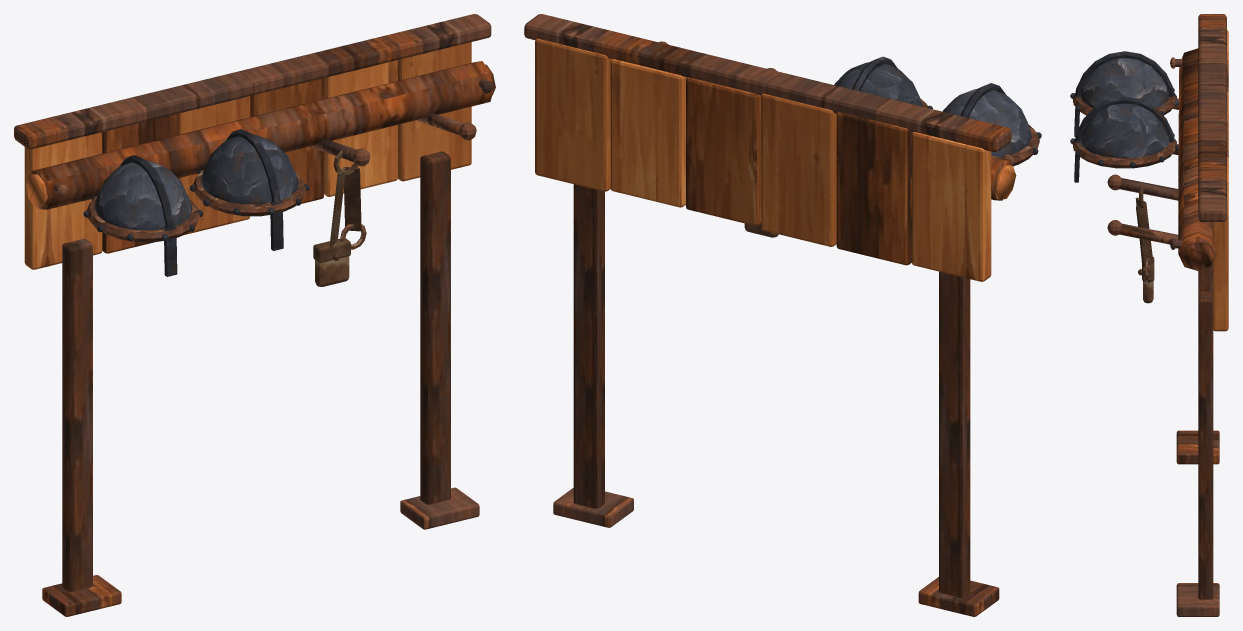
The model's file is mg_helmet_pegs.glb.
3 renders of one model, left to right at view 1: azimuth 30°, elevation 25°; view 2: azimuth 150°, elevation 25°; view 3: azimuth 270°, elevation 25°, orthographic. The views are drawn at different scales.
Parts seen in each view (by area): view 1: model; view 2: model; view 3: model.
Part boxes in pixels (x1,y1,x2,y2): model: [14, 14, 495, 616]; model: [524, 14, 1041, 616]; model: [1070, 14, 1228, 616].
Size of the model in its own units: 1.31 by 1.29 by 0.4427.
15 materials, 15 textured.
